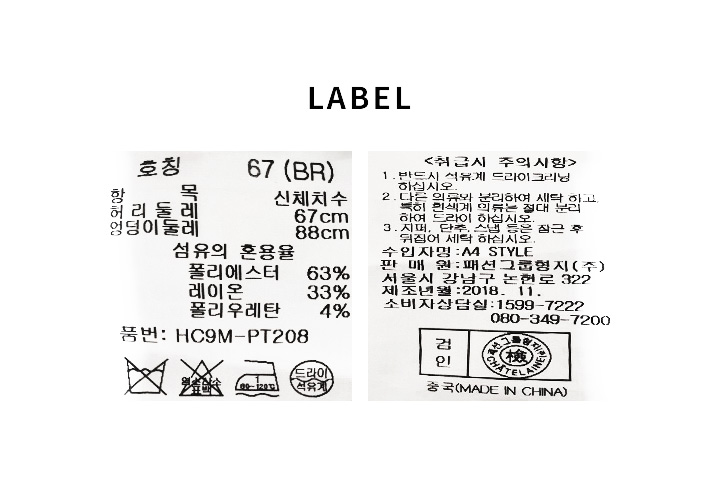KR_dry_clean_petroleum: (286, 356, 339, 399)
KR_iron_low_temp_with_cloth: (234, 356, 280, 399)
KR_no_bleach: (176, 354, 226, 399)
KR_no_wash: (121, 353, 167, 397)
